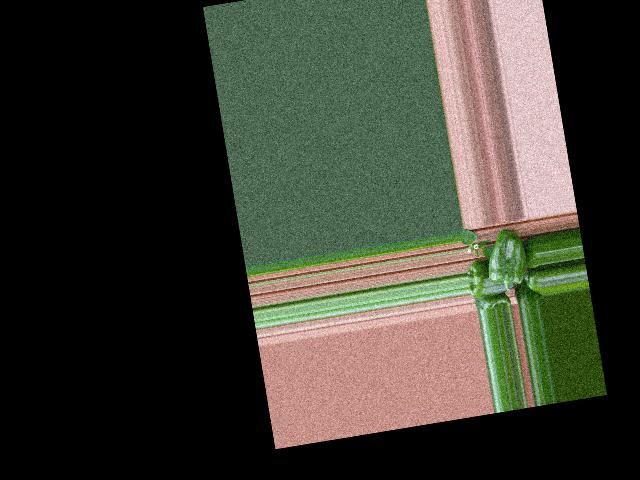bell_pepper: (522, 271, 544, 299)
